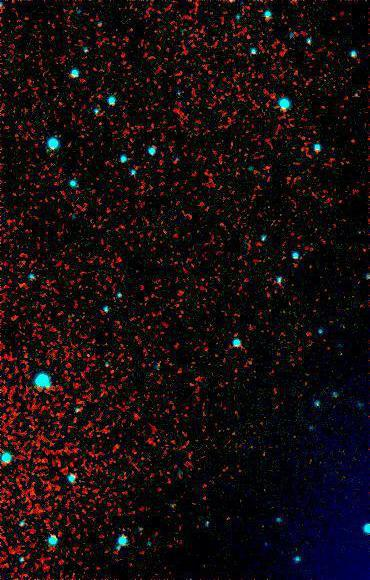star: (72, 340, 102, 370)
